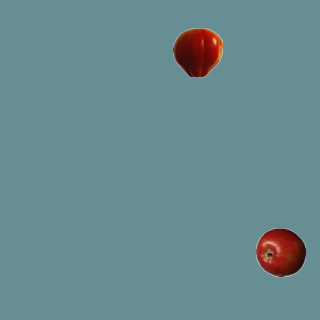Apple Braeburn: (255, 227, 305, 277)
Tomato 1: (172, 27, 222, 77)
